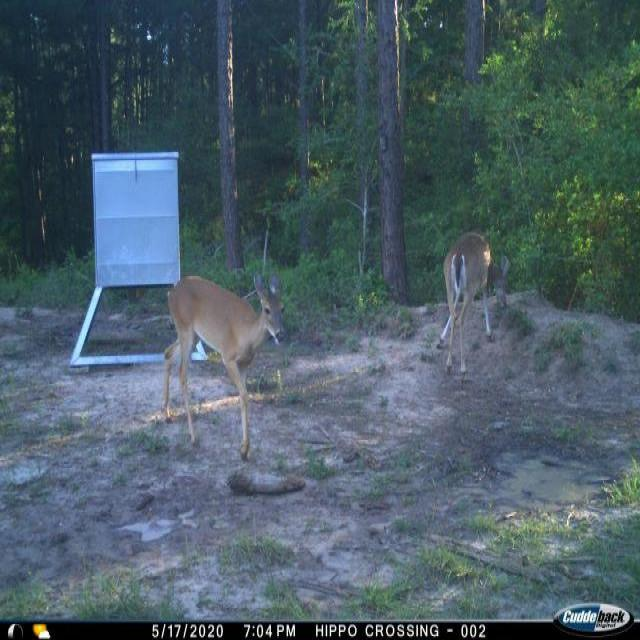deer: (160, 270, 290, 463), (434, 225, 514, 388)
